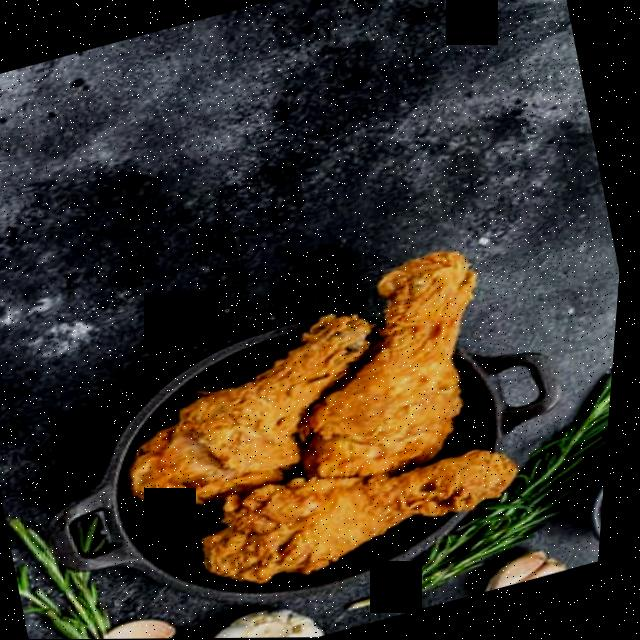Frango: (92, 242, 553, 615)
